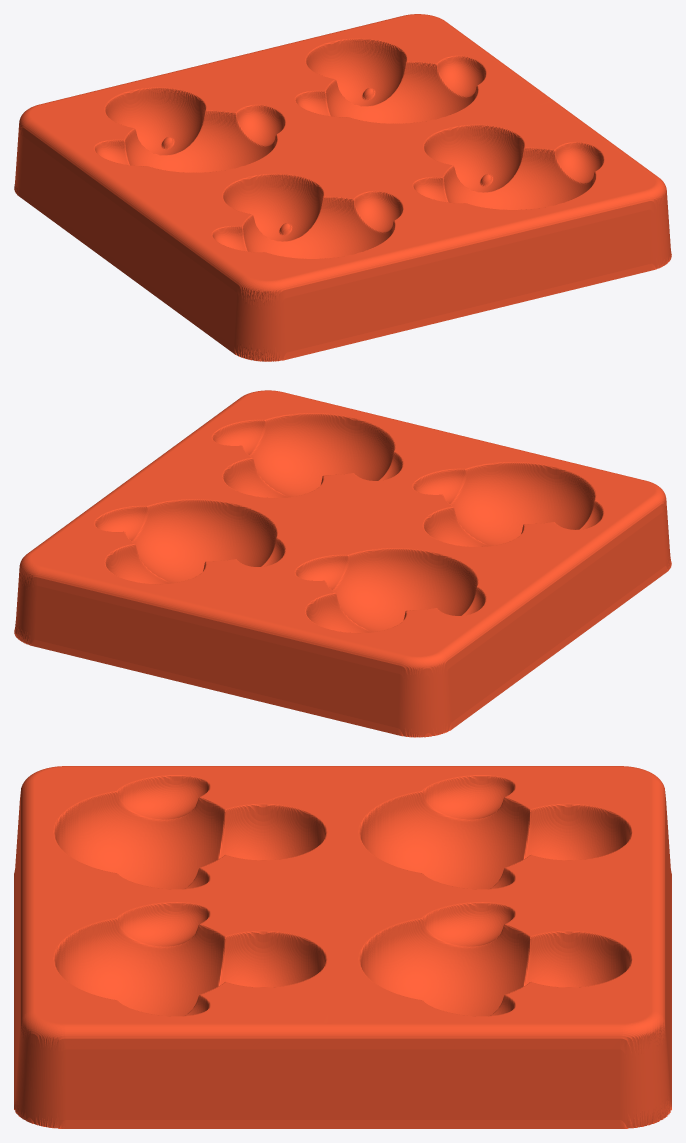
File: mold.glb
The picture shows the model from 3 angles, top to bottom: view 1: azimuth 30°, elevation 25°; view 2: azimuth 150°, elevation 25°; view 3: azimuth 270°, elevation 25°; orthographic projection. The views are drawn at different scales.
Parts seen in each view (by area): view 1: geometry_0; view 2: geometry_0; view 3: geometry_0.
Boxes of the visible parts, x1,y1,x2,y2 form: geometry_0: [14, 14, 671, 361]; geometry_0: [14, 390, 671, 737]; geometry_0: [14, 766, 671, 1128].
Bounding box in the file's own units: 0.1128 × 0.0185 × 0.1144.
